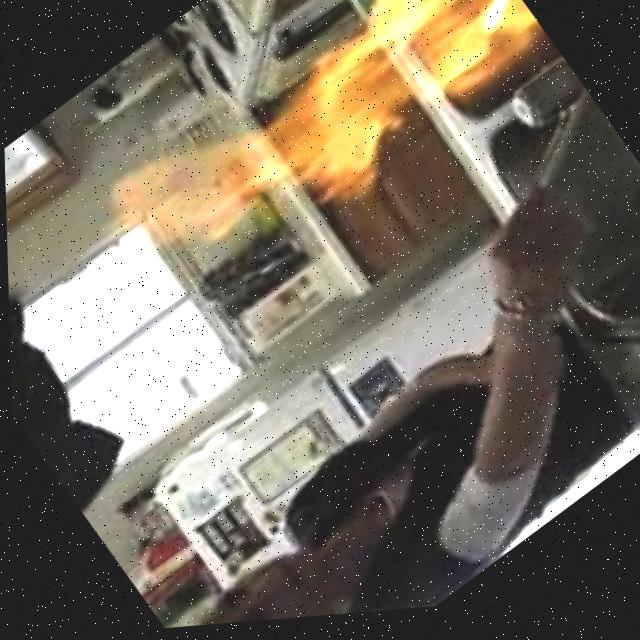Fire: (91, 0, 560, 326)
Smoke: (91, 0, 560, 326)
